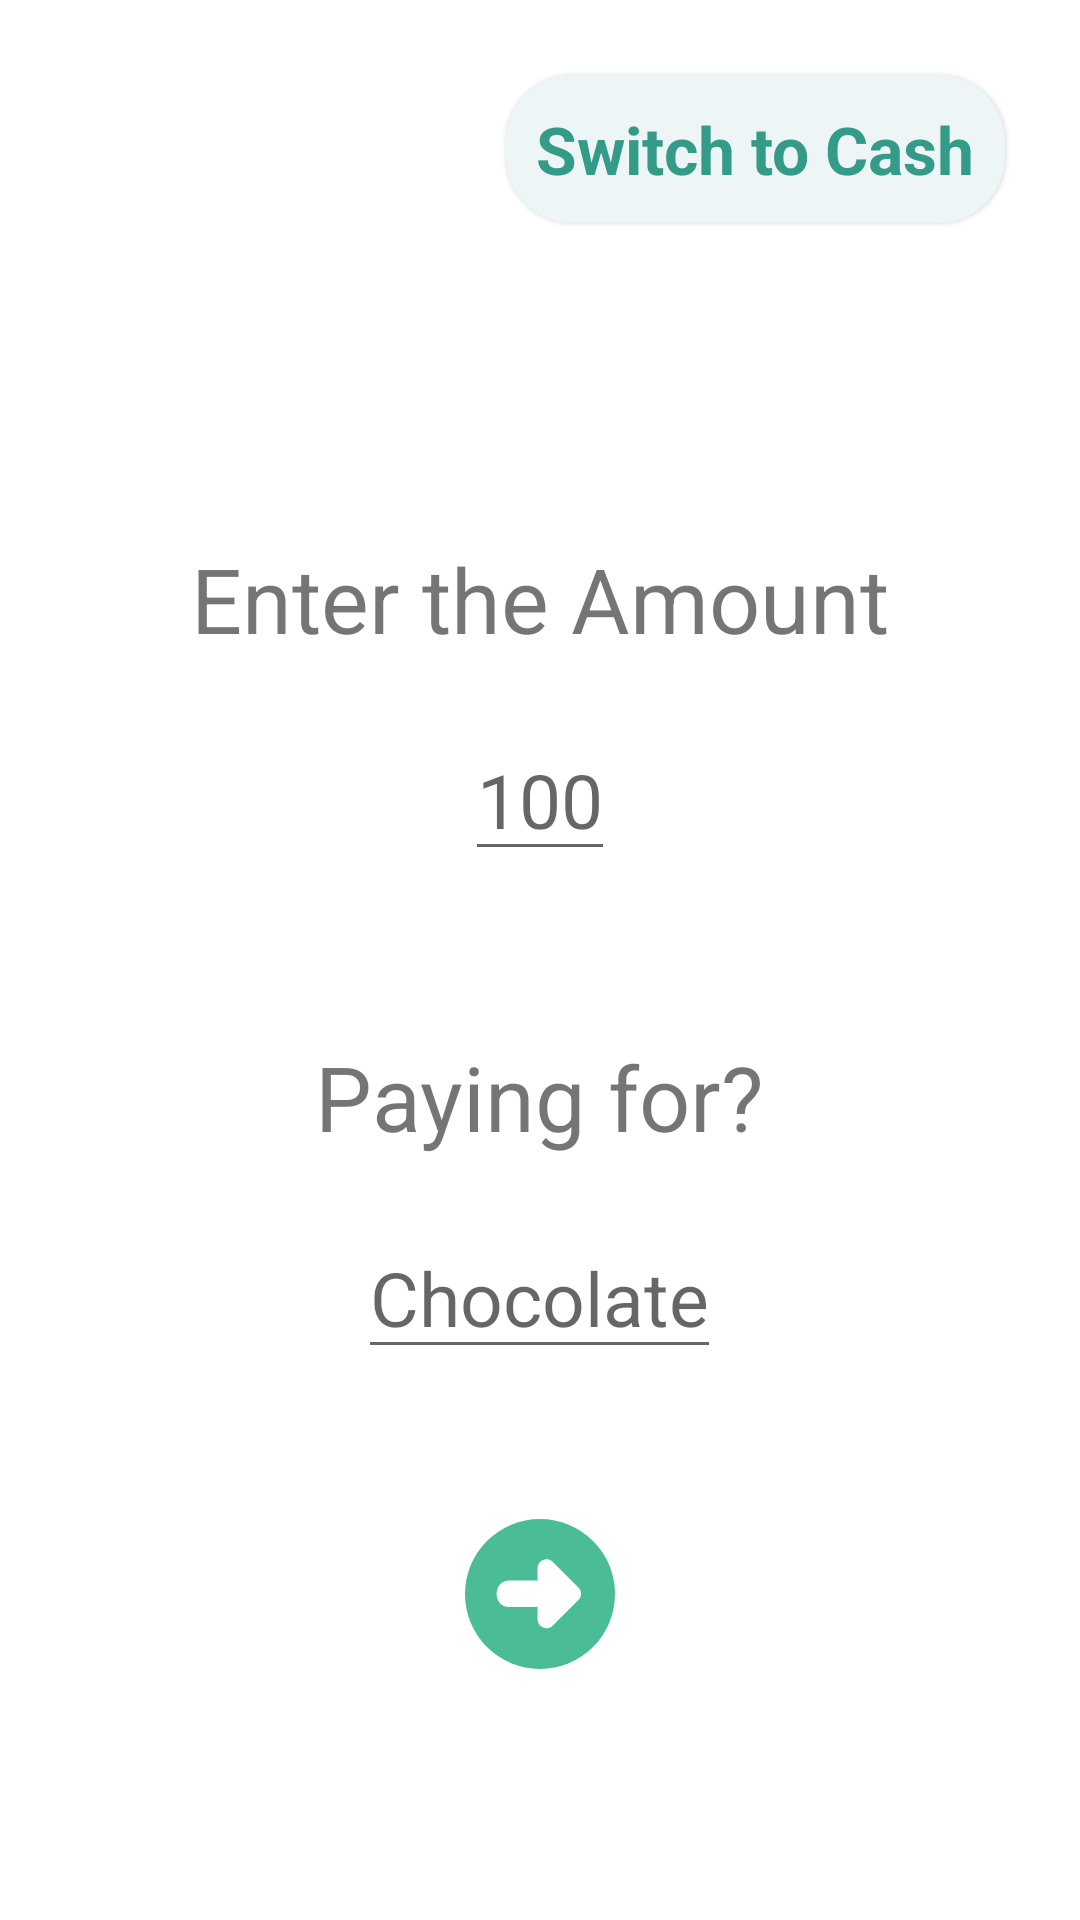

Icon bounding boxes for this 1080 × 1920 phone screenshot, format (x1, y1, x2, y2):
gonext: (465, 1519, 615, 1669)
